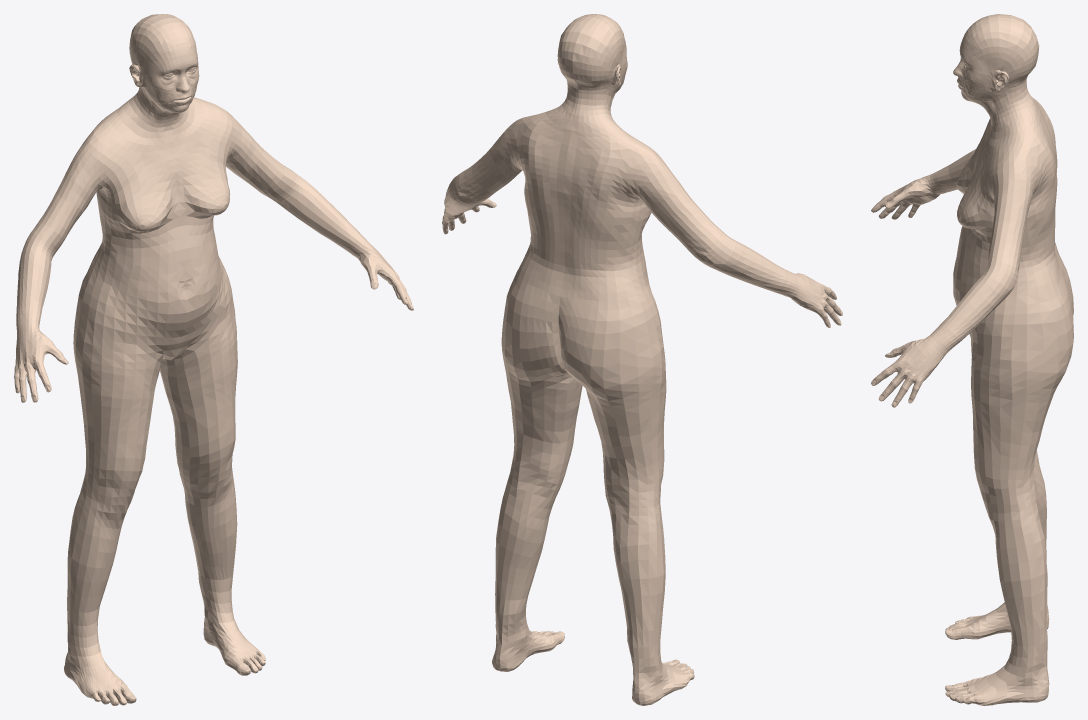
File: female-older-heavy-low.glb
3 views of the same model, side by side, from view 1: azimuth 30°, elevation 25°; view 2: azimuth 150°, elevation 25°; view 3: azimuth 270°, elevation 25° (orthographic).
Parts seen in each view (by area): view 1: world; view 2: world; view 3: world.
Boxes of the visible parts, x1=… form: world: x1=14, y1=14, x2=413, y2=705; world: x1=442, y1=14, x2=842, y2=705; world: x1=871, y1=14, x2=1073, y2=705.
Bounding box in the file's own units: 1.13 × 1.8 × 0.5108.
